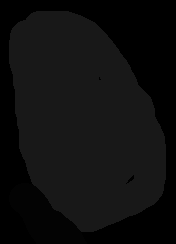fp: (4, 1, 173, 233)
